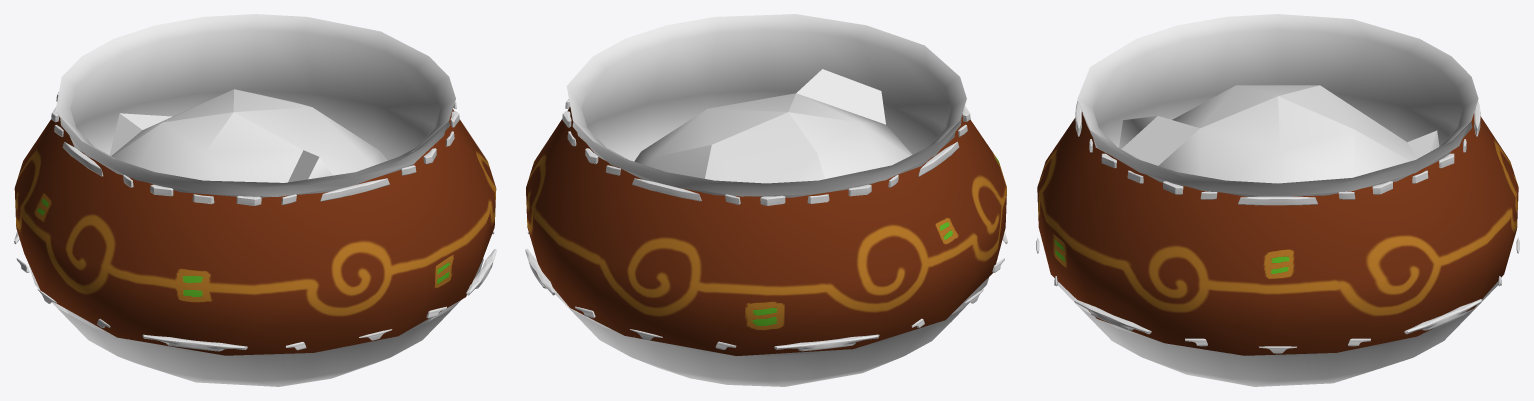
The model's file is MarmiteFeu.fbx.
3 renders of one model, left to right at view 1: azimuth 30°, elevation 25°; view 2: azimuth 150°, elevation 25°; view 3: azimuth 270°, elevation 25°, orthographic.
Parts seen in each view (by area): view 1: MarmiteFeu; view 2: MarmiteFeu; view 3: MarmiteFeu.
Part boxes in pixels (x1=…): MarmiteFeu: x1=14, y1=14, x2=496, y2=386; MarmiteFeu: x1=525, y1=14, x2=1007, y2=386; MarmiteFeu: x1=1036, y1=14, x2=1519, y2=386.
Bounding box in the file's own units: 125 × 68.36 × 125.
